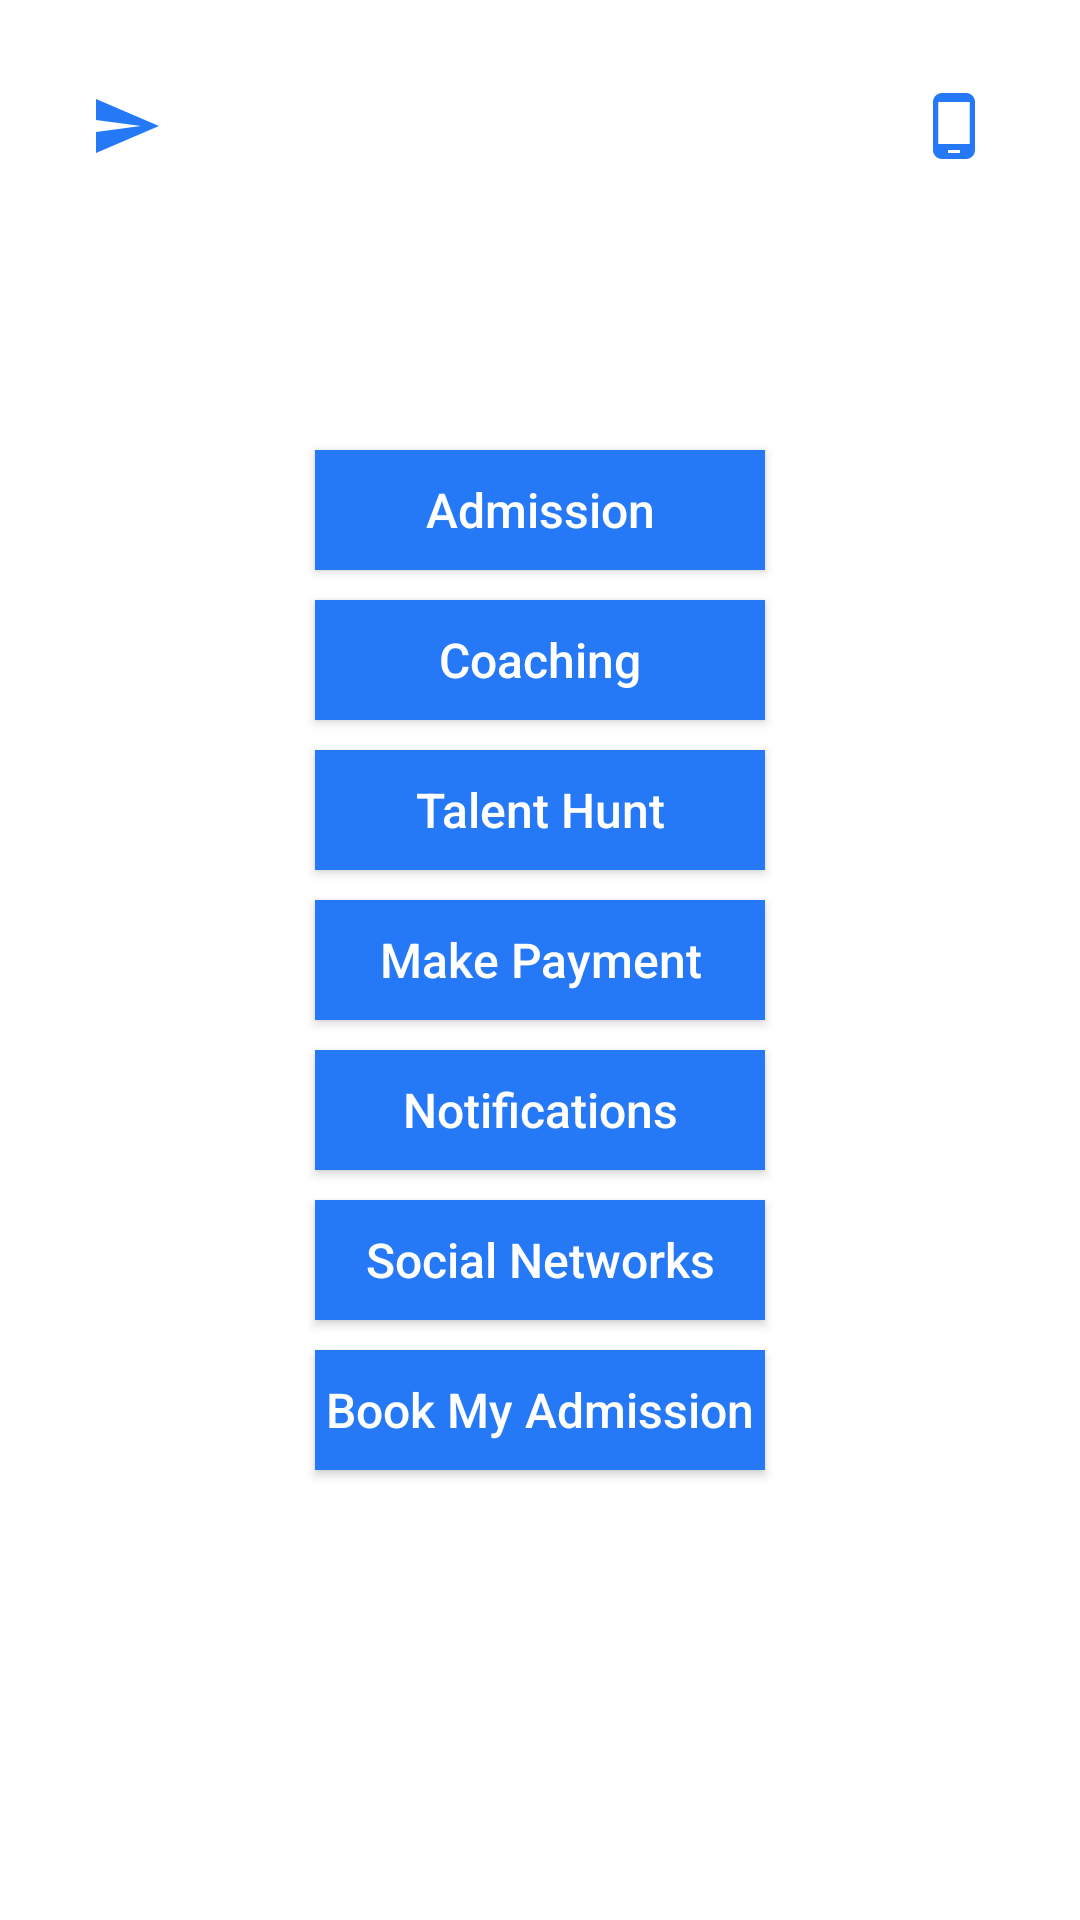

Named icons in this screenshot (1080px×1920px) and their bounding boxes, rect(x1, y1, x2, y2):
phone android: rect(933, 93, 975, 159)
send: rect(96, 99, 159, 153)
